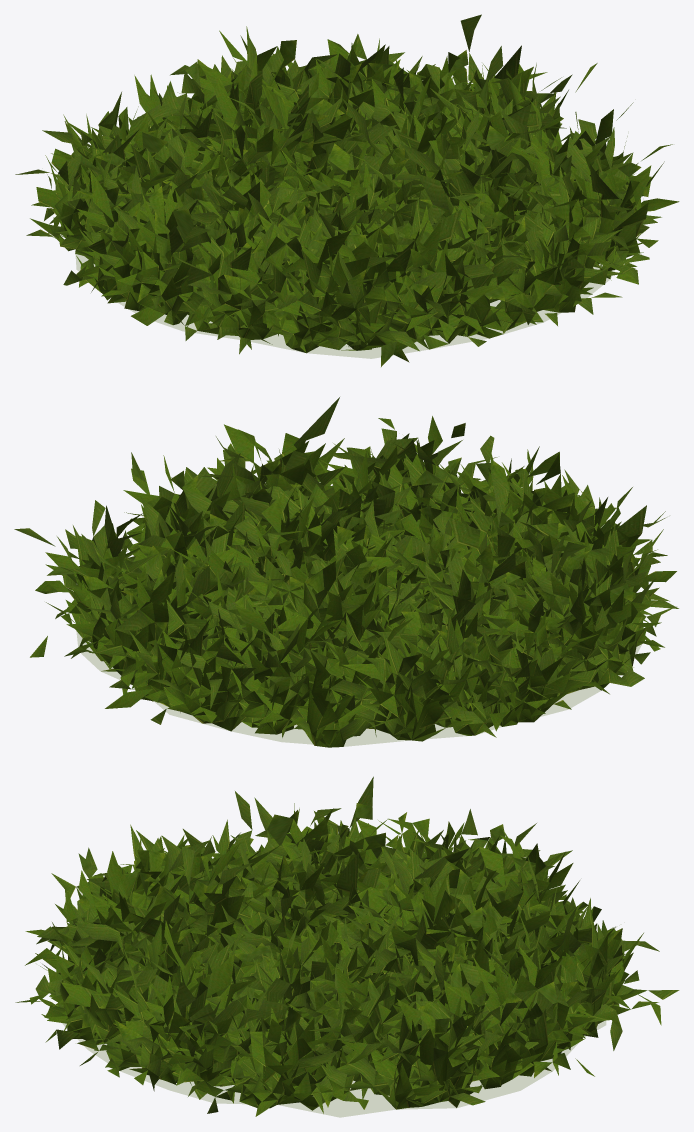
The model's file is grass.glb.
3 views of the same model, one above another, from view 1: azimuth 30°, elevation 25°; view 2: azimuth 150°, elevation 25°; view 3: azimuth 270°, elevation 25° (orthographic). The views are drawn at different scales.
Visible parts, largest first — view 1: grass; view 2: grass; view 3: grass.
Part boxes in pixels (x1,y1,x2,y2): grass: [15, 14, 679, 366]; grass: [14, 397, 678, 747]; grass: [15, 776, 679, 1117].
Bounding box in the file's own units: 503 × 102 × 508.
2 materials, 2 textured.
